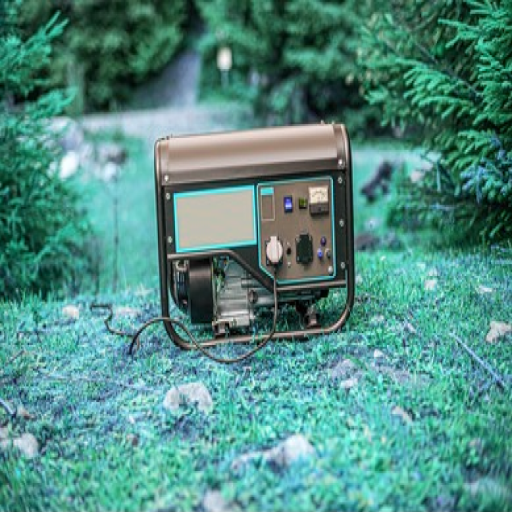portable_generator: (153, 123, 357, 351)
